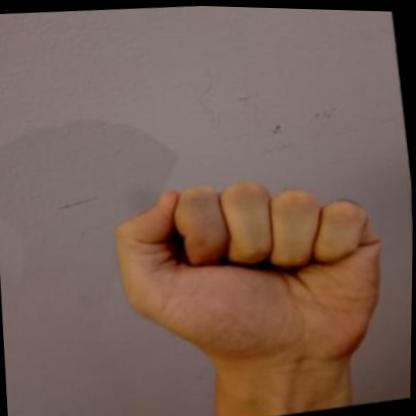A: (97, 147, 412, 398)
